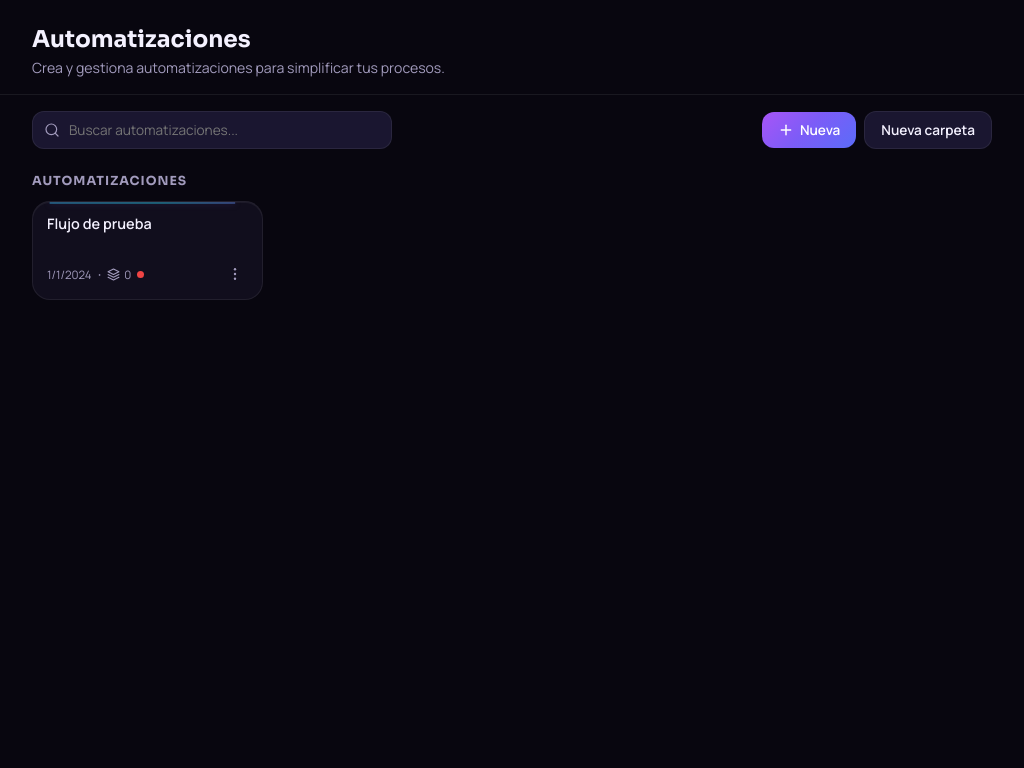
Test: AutomationsHubPage — creación de carpeta › la acción de la toolbar abre el mismo diálogo
Expected: the text "Flujo de prueba" is shown, [47,214,152,234]
Click the button "Nueva carpeta" at (928, 130), box [864,111,992,149]
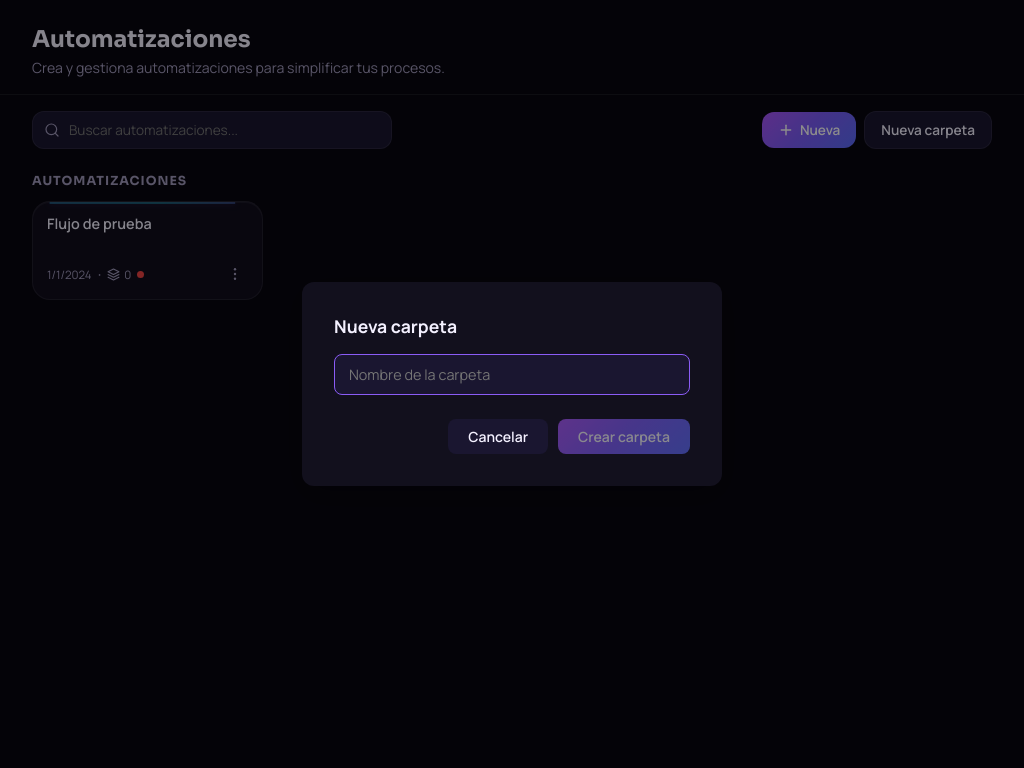
Now the dialog is shown
